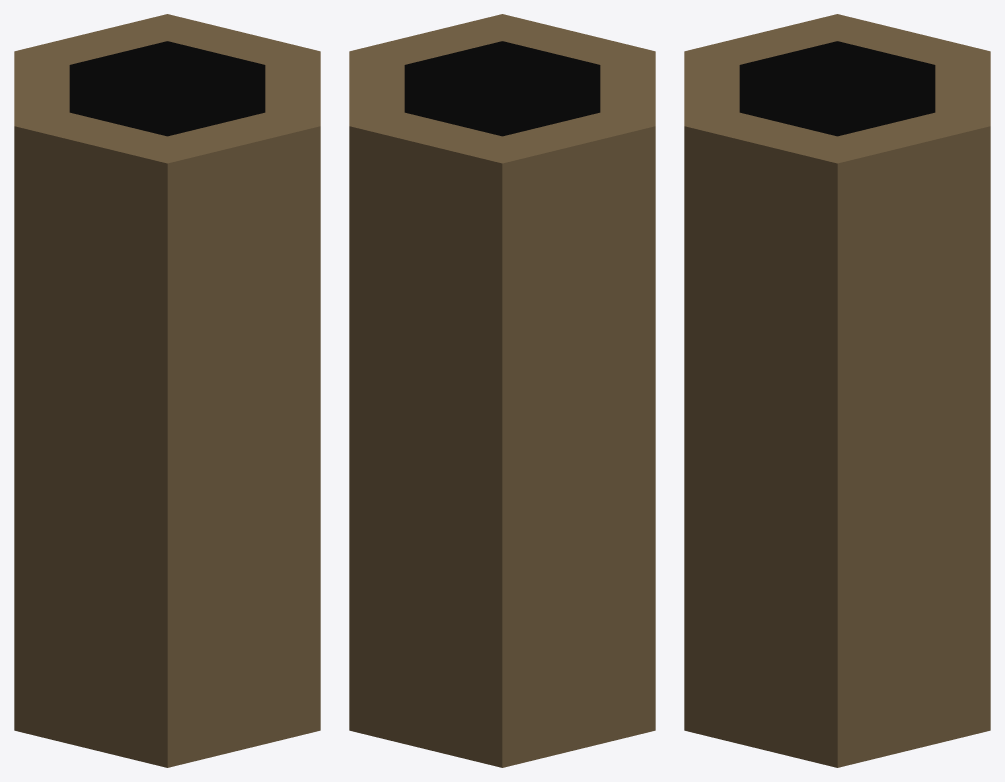
The model's file is SM_Wep_Ammo_Shell_01.fbx.
3 renders of one model, left to right at view 1: azimuth 30°, elevation 25°; view 2: azimuth 150°, elevation 25°; view 3: azimuth 270°, elevation 25°, orthographic.
Parts seen in each view (by area): view 1: SM_Wep_Ammo_Shell_01; view 2: SM_Wep_Ammo_Shell_01; view 3: SM_Wep_Ammo_Shell_01.
Boxes of the visible parts, left/top/right/bottom form: SM_Wep_Ammo_Shell_01: left=14, top=14, right=320, bottom=767; SM_Wep_Ammo_Shell_01: left=349, top=14, right=655, bottom=767; SM_Wep_Ammo_Shell_01: left=684, top=14, right=990, bottom=767.
Bounding box in the file's own units: 1.26 × 2.38 × 1.09.
